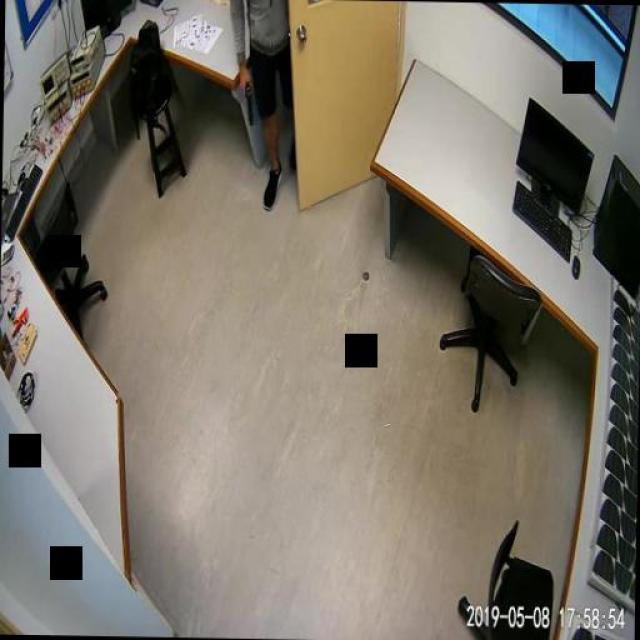gun: (238, 73, 254, 124)
